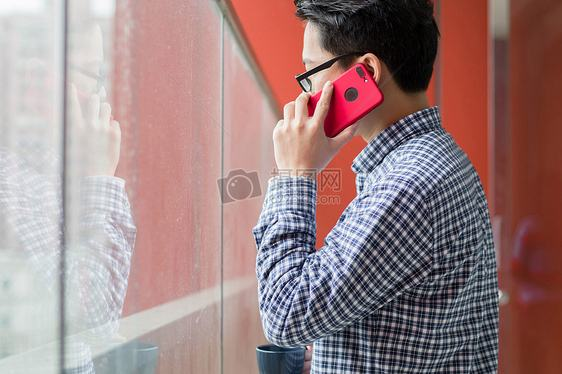calling: (267, 59, 385, 171)
